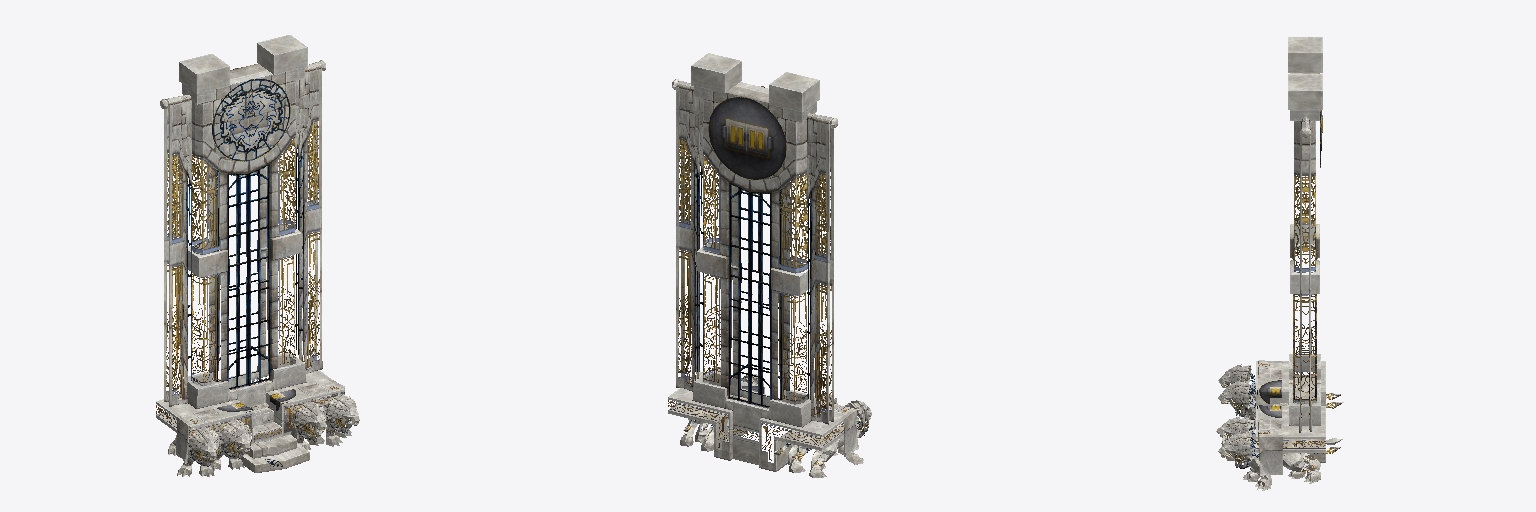
The picture shows the model from 3 angles: view 1: azimuth 30°, elevation 25°; view 2: azimuth 150°, elevation 25°; view 3: azimuth 270°, elevation 25°; orthographic projection.
Visible parts, largest first — view 1: world/expansion05/doodads/fx/6fx_stormwindthrone_nolight.m2_Geos; view 2: world/expansion05/doodads/fx/6fx_stormwindthrone_nolight.m2_Geos; view 3: world/expansion05/doodads/fx/6fx_stormwindthrone_nolight.m2_Geos.
Part boxes in pixels (x1,y1,x2,y2): world/expansion05/doodads/fx/6fx_stormwindthrone_nolight.m2_Geos: (156, 35, 359, 476); world/expansion05/doodads/fx/6fx_stormwindthrone_nolight.m2_Geos: (668, 53, 871, 477); world/expansion05/doodads/fx/6fx_stormwindthrone_nolight.m2_Geos: (1216, 37, 1343, 490).
Bounding box in the file's own units: 6.71 × 14.11 × 4.26.
1 materials, 1 textured.